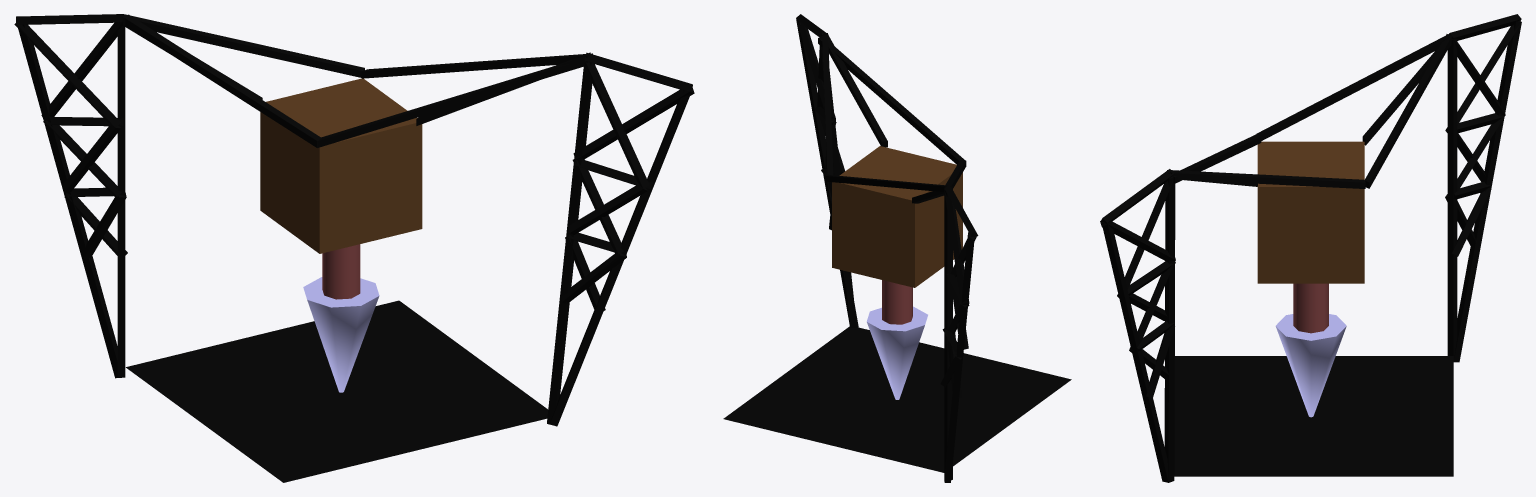
Rendered from Miner.obj.
3 renders of one model, left to right at view 1: azimuth 30°, elevation 25°; view 2: azimuth 150°, elevation 25°; view 3: azimuth 270°, elevation 25°, orthographic. The views are drawn at different scales.
Visible parts, largest first — view 1: Miner; view 2: Miner; view 3: Miner.
Boxes of the visible parts, x1,y1,x2,y2 form: Miner: (14,14,694,482); Miner: (723,14,1071,482); Miner: (1100,14,1521,482).
Bounding box in the file's own units: 6.6 × 5.1 × 5.92.
